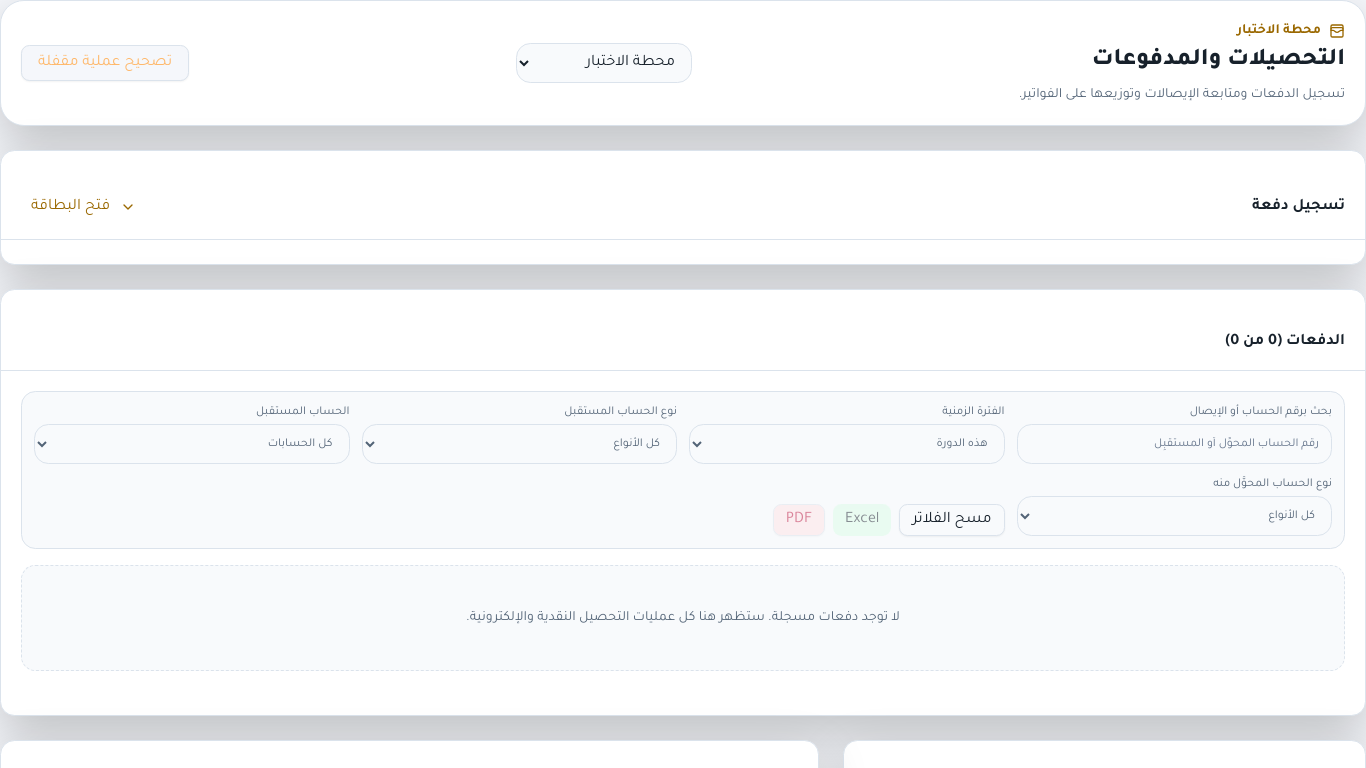
Scenario: role guards in administration UI › shows payment entry to the collector after opening the collapsed collection card
The image size is (1366, 768).
Click the button "فتح البطاقة": (84, 207) [21, 191, 146, 223]
(page scrolled)
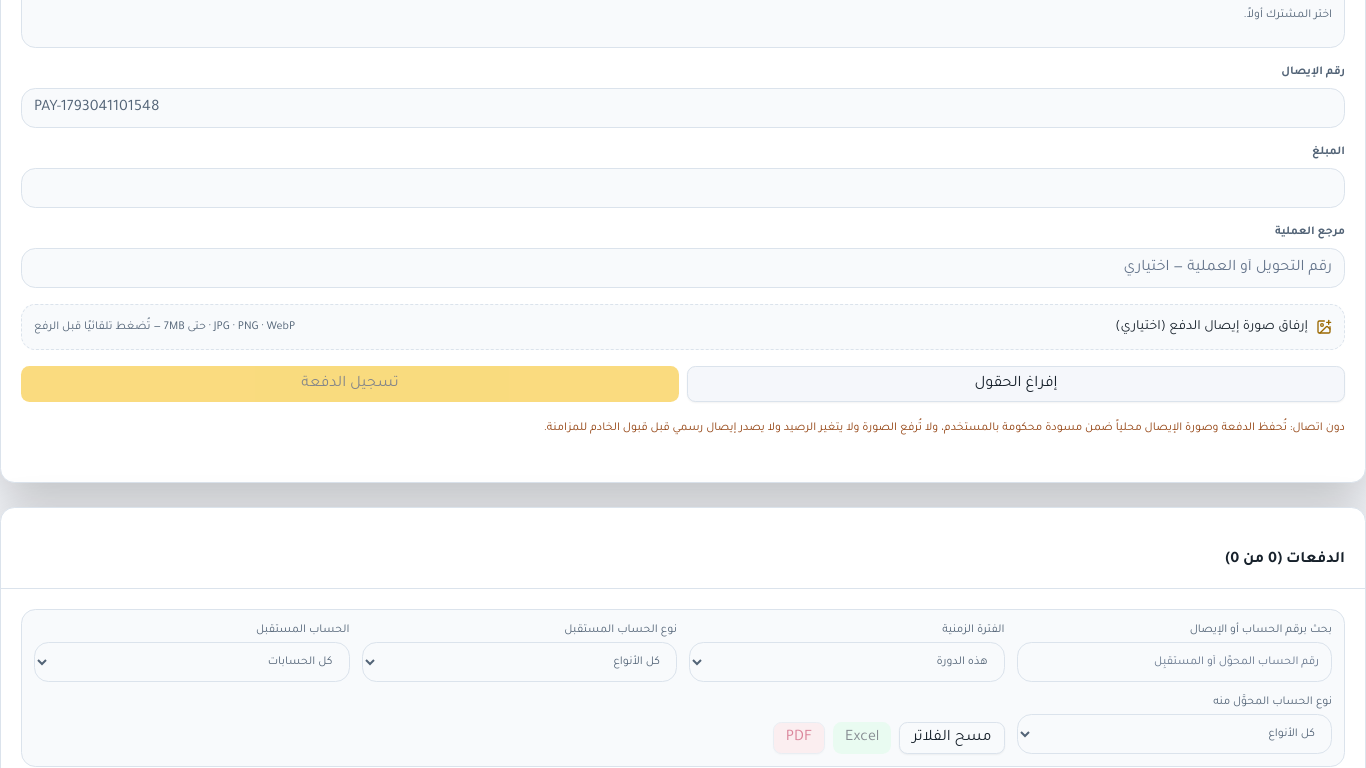
Check: the button "تسجيل الدفعة" is shown, box [21, 366, 679, 402]
